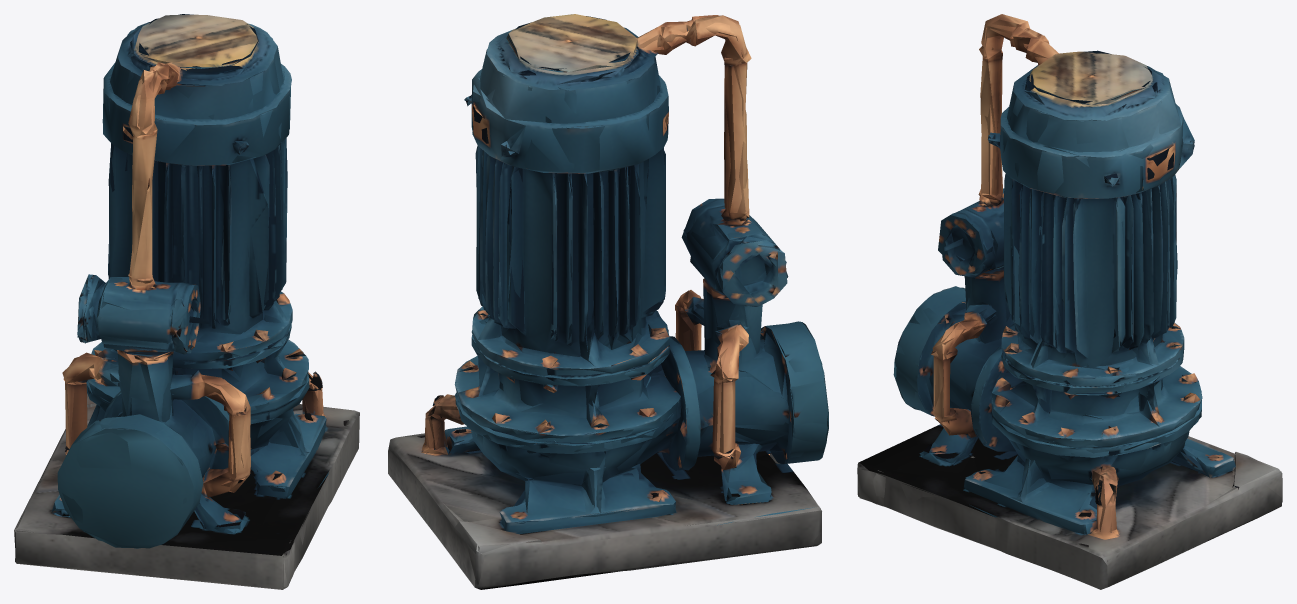
File: stylized_industrial_water_pump_station_LOD1.glb
3 renders of one model, left to right at view 1: azimuth 30°, elevation 25°; view 2: azimuth 150°, elevation 25°; view 3: azimuth 270°, elevation 25°, orthographic. The views are drawn at different scales.
Parts seen in each view (by area): view 1: stylized_industrial_water_pump_station_LOD1; view 2: stylized_industrial_water_pump_station_LOD1; view 3: stylized_industrial_water_pump_station_LOD1.
Part boxes in pixels (x1=…): stylized_industrial_water_pump_station_LOD1: x1=14, y1=14, x2=359, y2=589; stylized_industrial_water_pump_station_LOD1: x1=388, y1=14, x2=828, y2=589; stylized_industrial_water_pump_station_LOD1: x1=857, y1=14, x2=1282, y2=589.
Bounding box in the file's own units: 1.69 × 2 × 1.7.
1 material, 1 textured.
